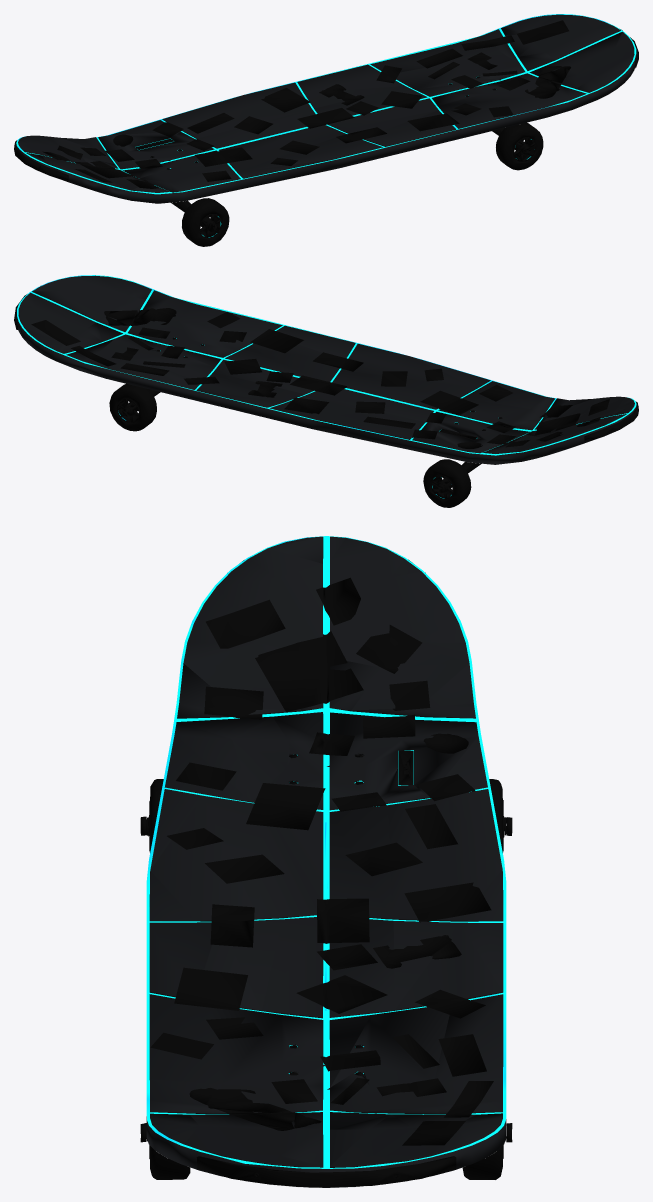
The model's file is skateboard_lod1.fbx.
3 views of the same model, one above another, from view 1: azimuth 30°, elevation 25°; view 2: azimuth 150°, elevation 25°; view 3: azimuth 270°, elevation 25° (orthographic). The views are drawn at different scales.
Parts seen in each view (by area): view 1: SM_Skateboard_LOD1; view 2: SM_Skateboard_LOD1; view 3: SM_Skateboard_LOD1.
Boxes of the visible parts, bbox=[...] form: SM_Skateboard_LOD1: bbox=[14, 14, 638, 246]; SM_Skateboard_LOD1: bbox=[14, 275, 638, 507]; SM_Skateboard_LOD1: bbox=[140, 536, 512, 1187].
Size of the model in its own units: 0.9633 by 0.1489 by 0.2569.
7 materials, 3 textured.
